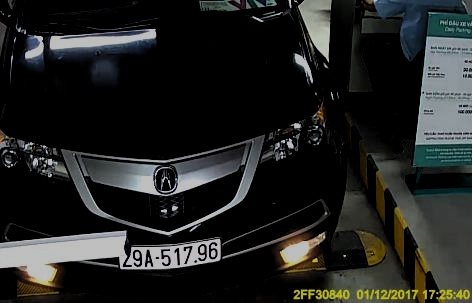plate: (114, 238, 224, 271)
